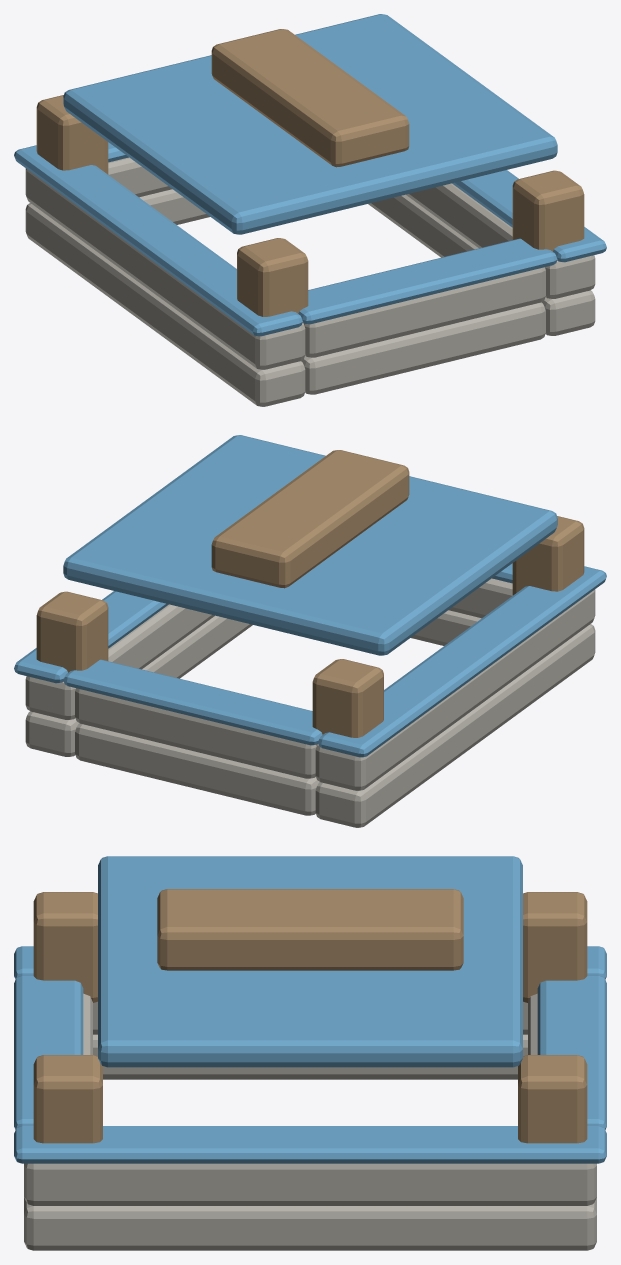
The model's file is fortification.glb.
3 views of the same model, one above another, from view 1: azimuth 30°, elevation 25°; view 2: azimuth 150°, elevation 25°; view 3: azimuth 270°, elevation 25° (orthographic). The views are drawn at different scales.
Parts seen in each view (by area): view 1: GEO_Fort_L4_Cap, GEO_Fort_L4_Keel, GEO_Fort_L2Trim_W, GEO_Fort_L1_W, GEO_Fort_L2_W, GEO_Fort_L1_S, GEO_Fort_L2Trim_S, GEO_Fort_L2_S, GEO_Fort_L2_E, GEO_Fort_L3_Post_SE, GEO_Fort_L3_Post_SW, GEO_Fort_L1_E (+4 smaller); view 2: GEO_Fort_L4_Cap, GEO_Fort_L4_Keel, GEO_Fort_L2Trim_W, GEO_Fort_L1_W, GEO_Fort_L2_W, GEO_Fort_L1_N, GEO_Fort_L2Trim_N, GEO_Fort_L2_N, GEO_Fort_L2_E, GEO_Fort_L3_Post_NE, GEO_Fort_L3_Post_NW, GEO_Fort_L1_E (+4 smaller); view 3: GEO_Fort_L4_Cap, GEO_Fort_L1_E, GEO_Fort_L4_Keel, GEO_Fort_L2_E, GEO_Fort_L2Trim_E, GEO_Fort_L2Trim_N, GEO_Fort_L2Trim_S, GEO_Fort_L3_Post_NE, GEO_Fort_L3_Post_SE, GEO_Fort_L3_Post_NW, GEO_Fort_L3_Post_SW, GEO_Fort_L1_W (+3 smaller).
Boxes of the visible parts, x1,y1,x2,y2 form: GEO_Fort_L4_Cap: [63, 14, 557, 234]; GEO_Fort_L4_Keel: [211, 29, 409, 167]; GEO_Fort_L2Trim_W: [14, 145, 302, 336]; GEO_Fort_L1_W: [25, 203, 305, 406]; GEO_Fort_L2_W: [25, 168, 305, 369]; GEO_Fort_L1_S: [301, 302, 545, 394]; GEO_Fort_L2Trim_S: [298, 238, 557, 324]; GEO_Fort_L2_S: [304, 267, 545, 357]; GEO_Fort_L2_E: [406, 183, 595, 298]; GEO_Fort_L3_Post_SE: [512, 170, 584, 251]; GEO_Fort_L3_Post_SW: [237, 238, 308, 324]; GEO_Fort_L1_E: [368, 194, 595, 335]; GEO_Fort_L4_Cap: [63, 435, 557, 655]; GEO_Fort_L4_Keel: [211, 450, 409, 588]; GEO_Fort_L2Trim_W: [318, 566, 606, 757]; GEO_Fort_L1_W: [315, 624, 595, 827]; GEO_Fort_L2_W: [315, 589, 595, 790]; GEO_Fort_L1_N: [75, 723, 319, 815]; GEO_Fort_L2Trim_N: [63, 659, 322, 745]; GEO_Fort_L2_N: [75, 688, 316, 778]; GEO_Fort_L2_E: [25, 604, 214, 719]; GEO_Fort_L3_Post_NE: [36, 591, 108, 672]; GEO_Fort_L3_Post_NW: [312, 659, 383, 745]; GEO_Fort_L1_E: [25, 615, 252, 756]; GEO_Fort_L4_Cap: [98, 856, 522, 1067]; GEO_Fort_L1_E: [24, 1197, 596, 1250]; GEO_Fort_L4_Keel: [157, 889, 463, 970]; GEO_Fort_L2_E: [24, 1163, 596, 1205]; GEO_Fort_L2Trim_E: [14, 1126, 606, 1163]; GEO_Fort_L2Trim_N: [537, 975, 606, 1129]; GEO_Fort_L2Trim_S: [14, 975, 83, 1129]; GEO_Fort_L3_Post_NE: [518, 1055, 587, 1143]; GEO_Fort_L3_Post_SE: [33, 1055, 102, 1143]; GEO_Fort_L3_Post_NW: [523, 892, 587, 1002]; GEO_Fort_L3_Post_SW: [33, 892, 97, 1002]; GEO_Fort_L1_W: [93, 1034, 527, 1079].
Size of the model in its own units: 1 by 0.55 by 1.2.
